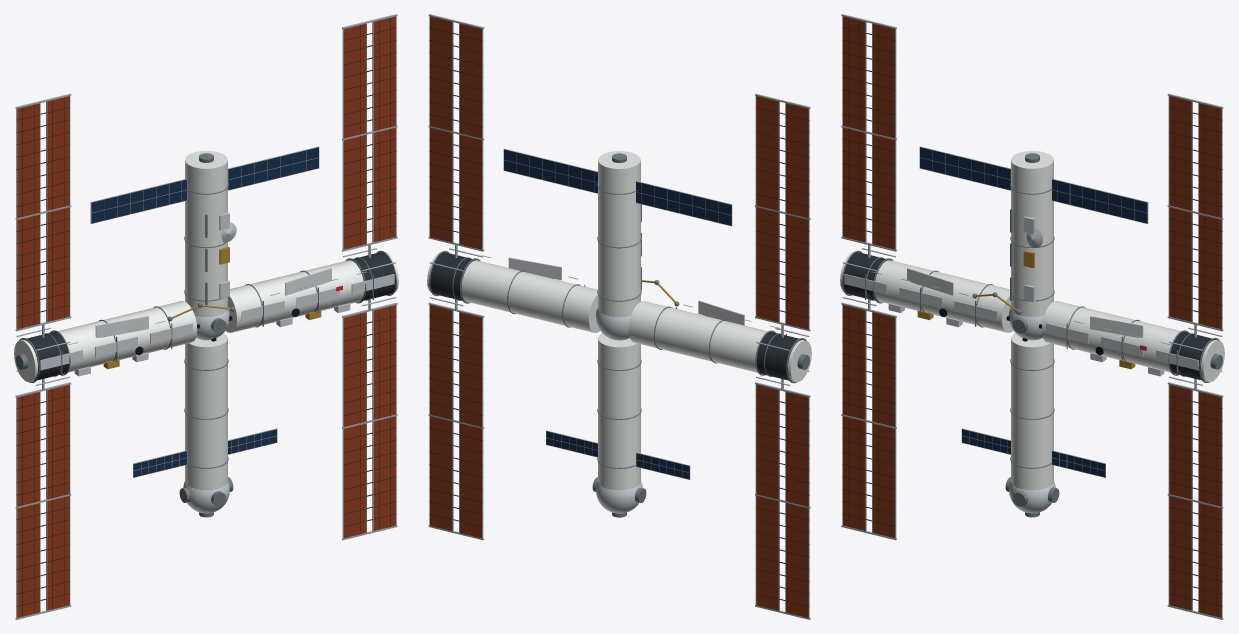
File: tiangong-cross.glb
3 views of the same model, side by side, from view 1: azimuth 30°, elevation 25°; view 2: azimuth 150°, elevation 25°; view 3: azimuth 330°, elevation 25° (orthographic).
Parts seen in each view (by area): view 1: Wentian-solar-upper-cells--1.6425, Tianhe-core, Wentian-solar-upper-structural-crossbar-0, Wentian-solar-upper-cell-column--1.6425--0.25, Tianhe-solar-port-cells, Tianhe-multi-docking-node, Tianhe-core-MLI-band--0.34, Tianhe-resource-section, Wentian-radiator, Tianhe-equipment-bay-7.1; view 2: Wentian-solar-upper-cells--1.6425, Tianhe-core, Wentian-solar-upper-structural-crossbar-0, Tianhe-solar-port-cells, Wentian-solar-upper-cell-column--1.6425--0.25, Tianhe-resource-section, Tianhe-core-MLI-band--0.34, Tianhe-multi-docking-node, Wentian-radiator; view 3: Wentian-solar-upper-cells--1.6425, Tianhe-core, Wentian-solar-upper-structural-crossbar-0, Wentian-solar-upper-cell-column--1.6425--0.25, Tianhe-solar-port-cells, Tianhe-multi-docking-node, Tianhe-core-MLI-band--0.34, Tianhe-resource-section, Wentian-radiator, Tianhe-equipment-bay-7.1.
Part boxes in pixels (x1,y1,x2,y2): Wentian-solar-upper-cells--1.6425: (17,16,395,617); Tianhe-core: (14,150,398,490); Wentian-solar-upper-structural-crossbar-0: (15,14,397,619); Wentian-solar-upper-cell-column--1.6425--0.25: (16,18,396,616); Tianhe-solar-port-cells: (91,147,318,477); Tianhe-multi-docking-node: (40,212,394,513); Tianhe-core-MLI-band--0.34: (16,153,396,517); Tianhe-resource-section: (21,252,395,381); Wentian-radiator: (95,268,331,337); Tianhe-equipment-bay-7.1: (103,246,321,369); Wentian-solar-upper-cells--1.6425: (430,16,808,617); Tianhe-core: (427,151,811,490); Wentian-solar-upper-structural-crossbar-0: (428,14,810,619); Tianhe-solar-port-cells: (504,149,731,479); Wentian-solar-upper-cell-column--1.6425--0.25: (429,27,809,606); Tianhe-resource-section: (430,252,803,381); Tianhe-core-MLI-band--0.34: (429,153,809,517); Tianhe-multi-docking-node: (596,308,642,513); Wentian-radiator: (508,257,744,325); Wentian-solar-upper-cells--1.6425: (843,16,1221,617); Tianhe-core: (840,150,1224,490); Wentian-solar-upper-structural-crossbar-0: (841,14,1223,619); Wentian-solar-upper-cell-column--1.6425--0.25: (842,18,1222,616); Tianhe-solar-port-cells: (920,147,1147,477); Tianhe-multi-docking-node: (844,216,1198,513); Tianhe-core-MLI-band--0.34: (842,153,1222,517); Tianhe-resource-section: (843,252,1217,381); Wentian-radiator: (907,268,1143,337); Tianhe-equipment-bay-7.1: (917,250,1135,369).
Size of the model in its own units: 42.15 by 54.15 by 6.29.
